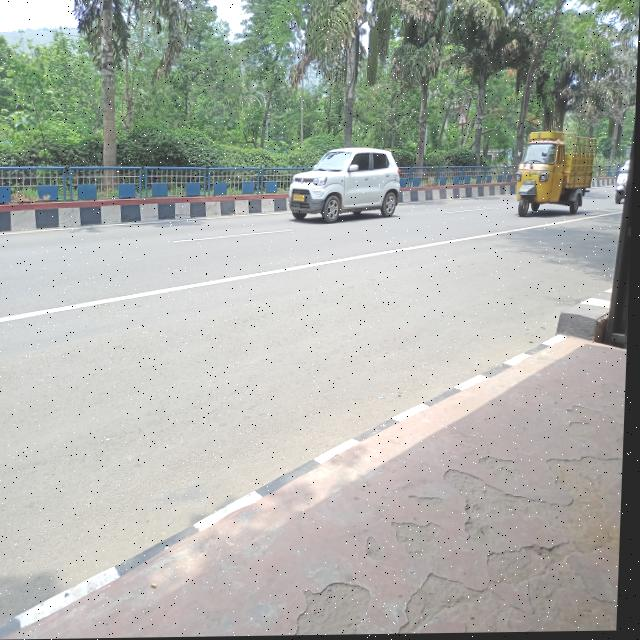bike: (615, 161, 631, 207)
car: (288, 140, 412, 239)
